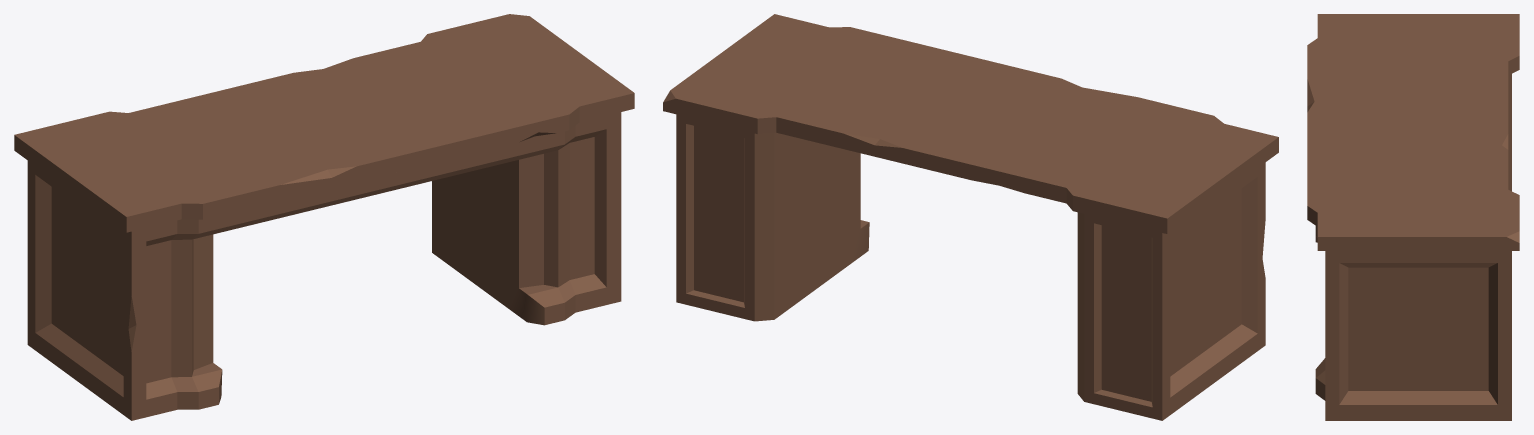
File: SM_Prop_Desk_01.fbx
3 renders of one model, left to right at view 1: azimuth 30°, elevation 25°; view 2: azimuth 150°, elevation 25°; view 3: azimuth 270°, elevation 25°, orthographic. The views are drawn at different scales.
Visible parts, largest first — view 1: SM_Prop_Desk_01; view 2: SM_Prop_Desk_01; view 3: SM_Prop_Desk_01.
Part boxes in pixels (x1,y1,x2,y2): SM_Prop_Desk_01: [14, 14, 634, 420]; SM_Prop_Desk_01: [663, 14, 1278, 420]; SM_Prop_Desk_01: [1307, 14, 1519, 420].
Bounding box in the file's own units: 223 × 87.69 × 89.58.
